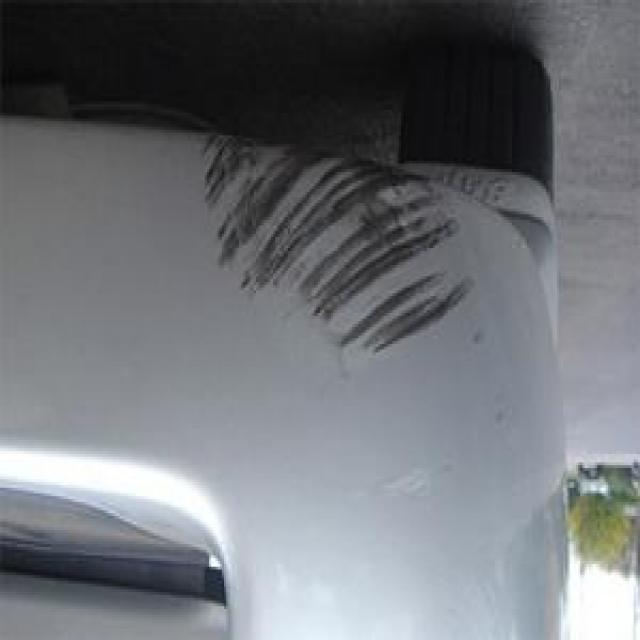scratch: (177, 120, 531, 388)
